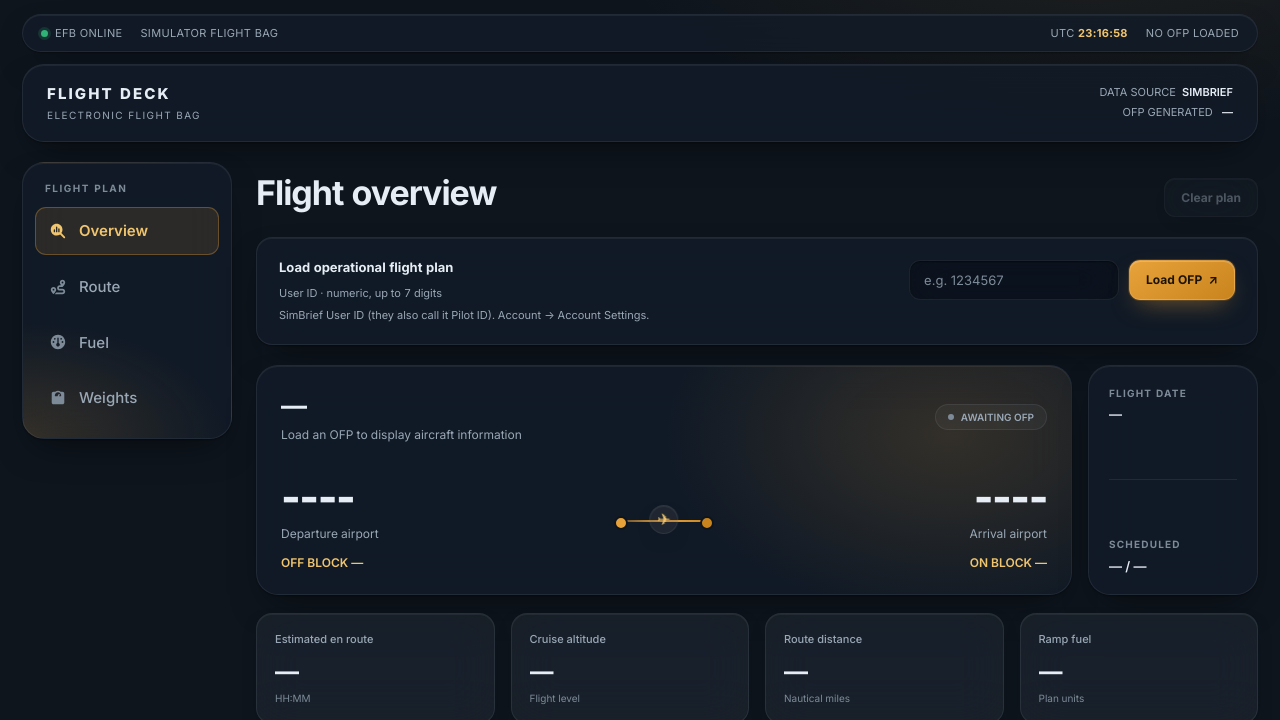
it: App › loads a flight plan for a User ID
The image size is (1280, 720).
Type "1381511" into the field labelled "User ID · numeric, up to 7 digits" at (1014, 280), box [909, 260, 1119, 300]
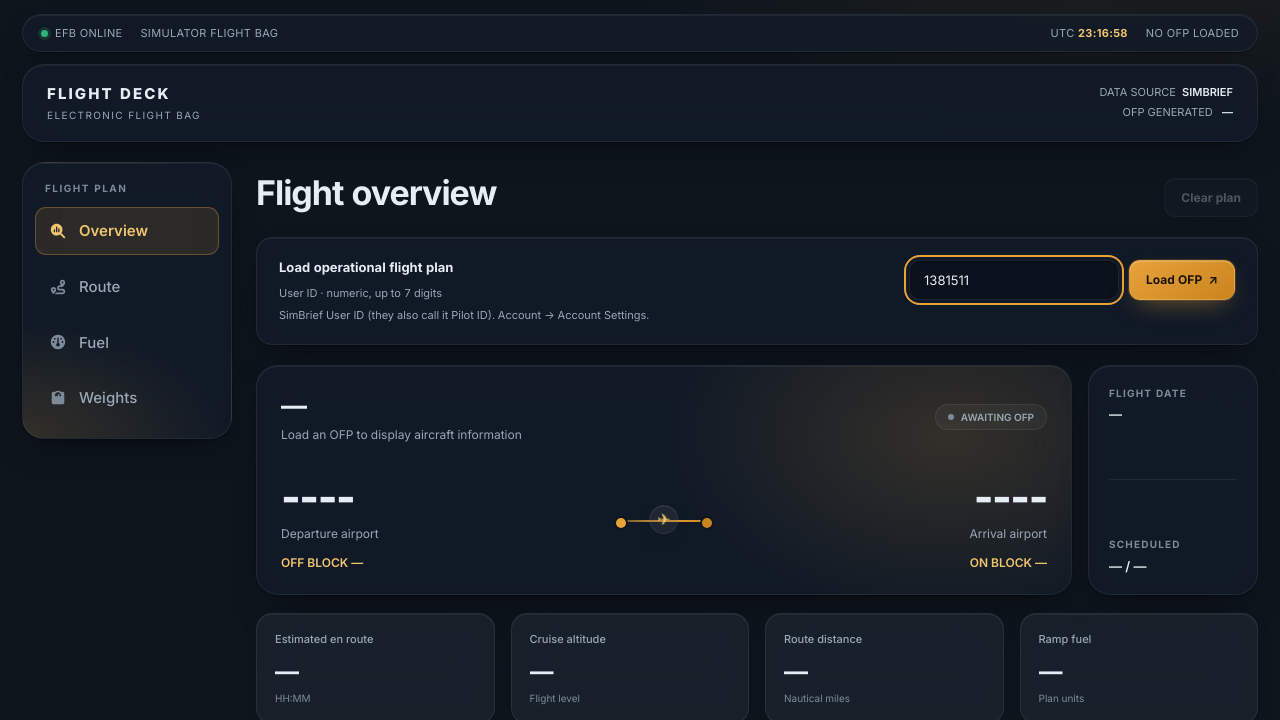
Click the button "Load OFP ↗" at (1182, 280), box [1129, 260, 1235, 300]
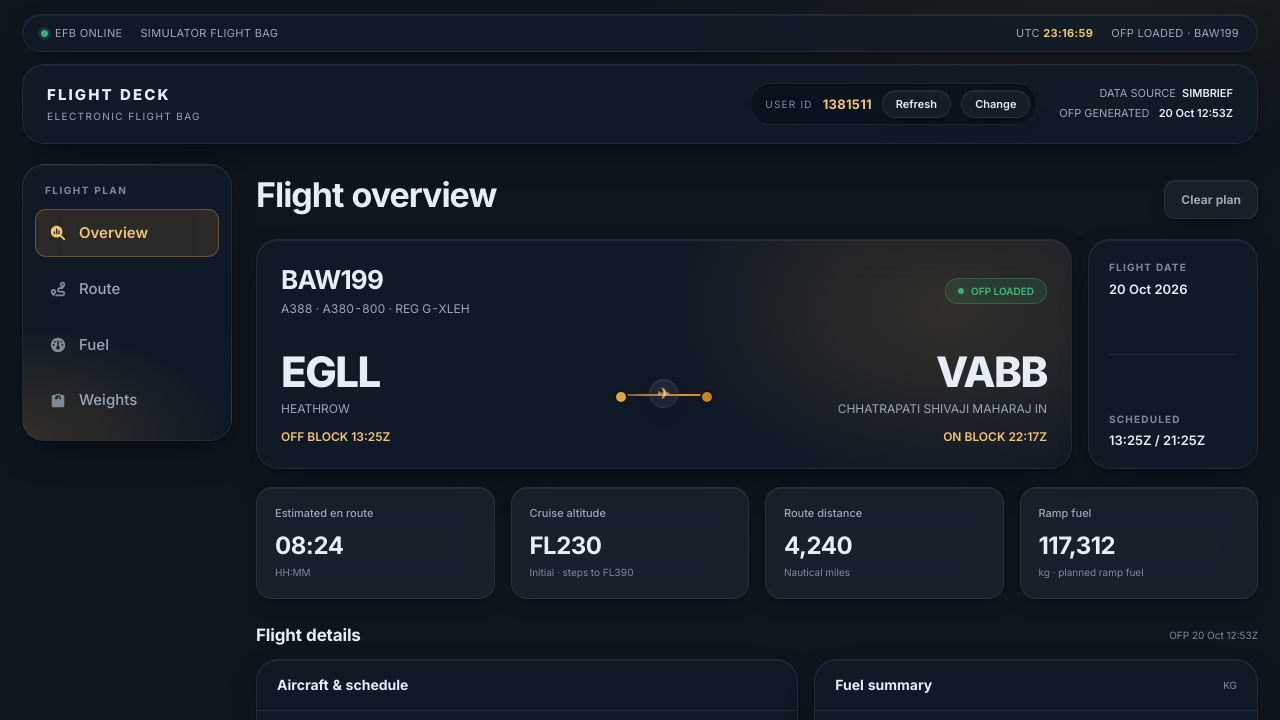
expect the text "EGLL" is shown: met, box [281, 346, 380, 397]
expect the text "VABB" is shown: met, box [936, 346, 1047, 397]
expect the text "BAW199" is shown: met, box [281, 264, 383, 295]
